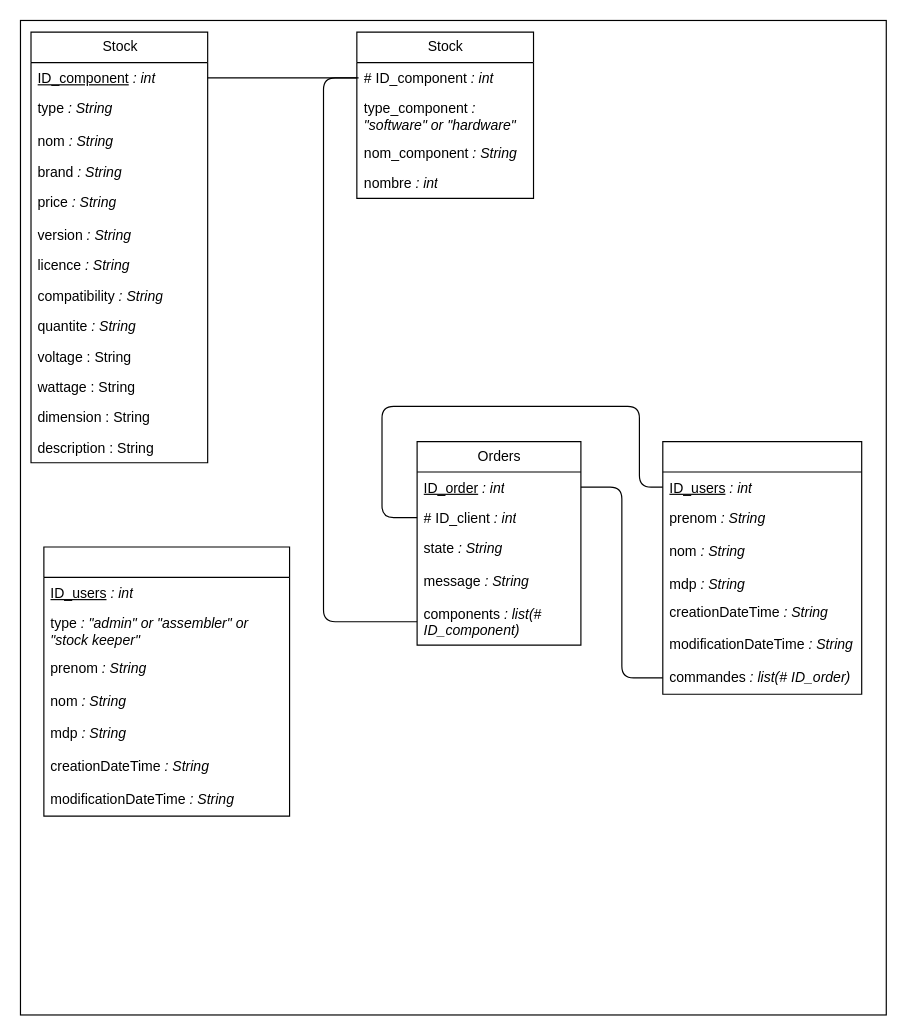
Some shapes in this 907 by 1035 pixel diagram are drawn without their labels. The shapes that lost their labels are listed below. From the top down, each one's box as (x1, y1, x2, y2) in pixels, then its label:
(662, 440, 862, 694): Clients
(43, 546, 290, 816): Staff
